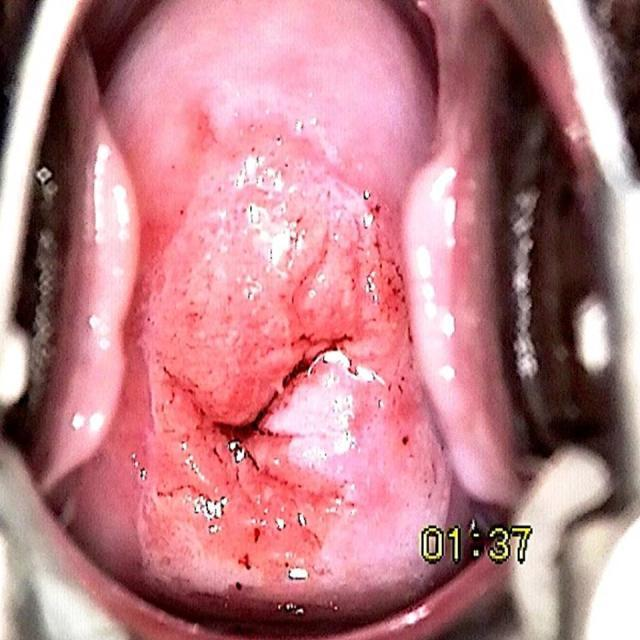cervical_lesion: (56, 87, 511, 622)
